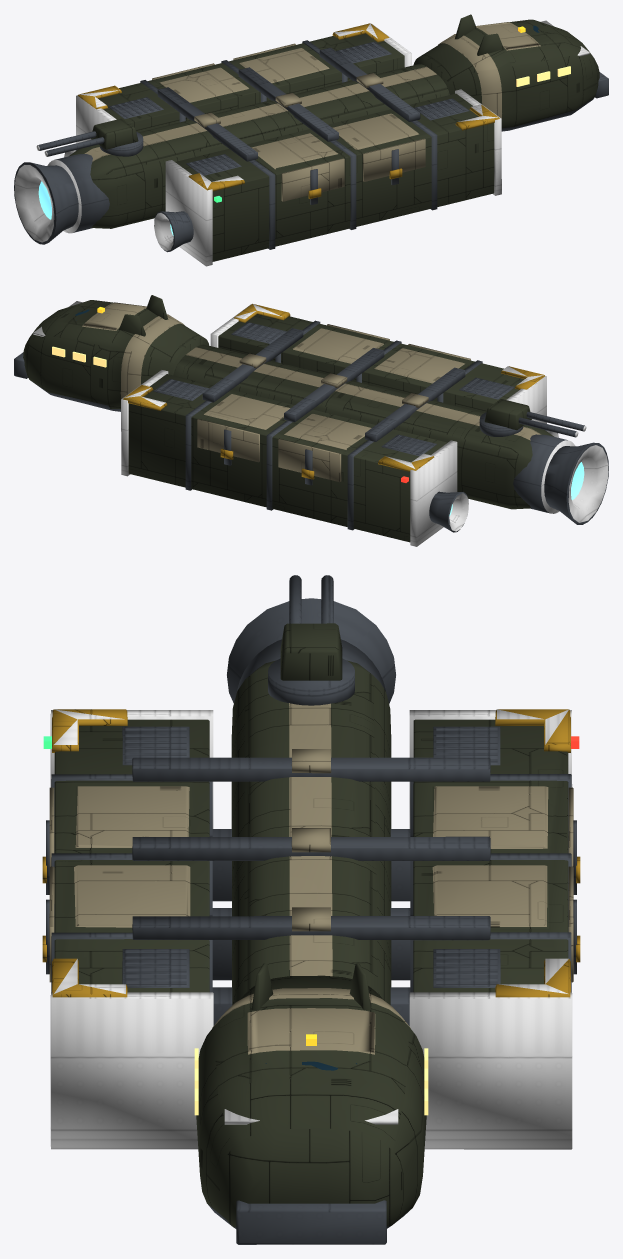
File: mule_production_v1_lod2.glb
The picture shows the model from 3 angles, top to bottom: view 1: azimuth 30°, elevation 25°; view 2: azimuth 150°, elevation 25°; view 3: azimuth 270°, elevation 25°; orthographic projection. The views are drawn at different scales.
Visible parts, largest first — view 1: LOD0_Hull, LOD0_Mechanical, LOD0_Armor, LOD0_MechanicalDark, LOD0_Livery, LOD0_Warning, LOD0_HOOK_SECONDARY_TURRET_Mechanical, LOD0_HOOK_SECONDARY_TURRET_Hull, LOD0_Lights_Warm, LOD0_HOOK_DRIVE_CORE; view 2: LOD0_Hull, LOD0_Mechanical, LOD0_Armor, LOD0_MechanicalDark, LOD0_Livery, LOD0_Warning, LOD0_HOOK_SECONDARY_TURRET_Mechanical, LOD0_HOOK_SECONDARY_TURRET_Hull, LOD0_Lights_Warm, LOD0_HOOK_DRIVE_CORE; view 3: LOD0_Hull, LOD0_MechanicalDark, LOD0_Mechanical, LOD0_Armor, LOD0_Livery, LOD0_HOOK_ARMOR_BUMPER_Mechanical, LOD0_Warning, LOD0_HOOK_SECONDARY_TURRET_Mechanical, LOD0_HOOK_SECONDARY_TURRET_Hull.
Part boxes in pixels (x1,y1,x2,y2): LOD0_Hull: (69,14,599,261); LOD0_Mechanical: (14,40,594,252); LOD0_Armor: (152,22,540,201); LOD0_MechanicalDark: (14,20,589,266); LOD0_Livery: (84,66,436,161); LOD0_Warning: (78,23,499,198); LOD0_HOOK_SECONDARY_TURRET_Mechanical: (38,131,143,156); LOD0_HOOK_SECONDARY_TURRET_Hull: (91,118,138,149); LOD0_Lights_Warm: (516,66,570,86); LOD0_HOOK_DRIVE_CORE: (38,181,173,235); LOD0_Hull: (23,295,553,542); LOD0_Mechanical: (33,320,608,532); LOD0_Armor: (82,302,470,481); LOD0_MechanicalDark: (33,301,608,546); LOD0_Livery: (186,347,541,440); LOD0_Warning: (123,304,544,479); LOD0_HOOK_SECONDARY_TURRET_Mechanical: (479,411,584,437); LOD0_HOOK_SECONDARY_TURRET_Hull: (484,399,531,430); LOD0_Lights_Warm: (52,346,106,367); LOD0_HOOK_DRIVE_CORE: (449,462,584,516); LOD0_Hull: (54,660,568,1227); LOD0_MechanicalDark: (50,709,572,1149); LOD0_Mechanical: (46,598,576,1228); LOD0_Armor: (49,749,573,1054); LOD0_Livery: (289,703,332,976); LOD0_HOOK_ARMOR_BUMPER_Mechanical: (236,1200,386,1244); LOD0_Warning: (42,709,580,997); LOD0_HOOK_SECONDARY_TURRET_Mechanical: (268,575,354,705); LOD0_HOOK_SECONDARY_TURRET_Hull: (280,623,342,680).
Size of what is drawn, in the model's own units: 16.12 by 3.07 by 6.74.
Materials: 12 (6 with a texture image).
